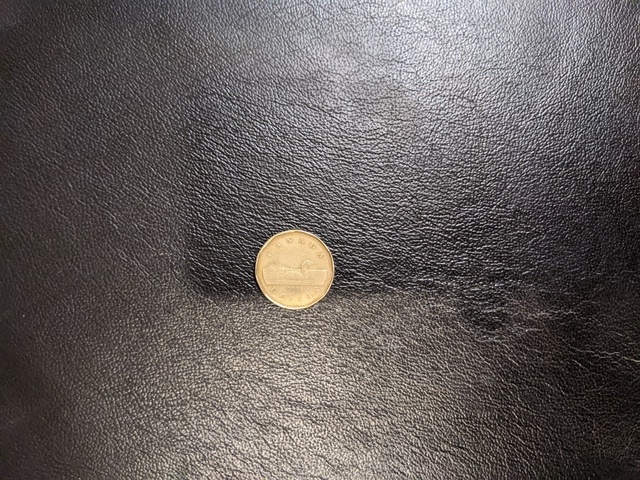loonie: (247, 230, 346, 318)
